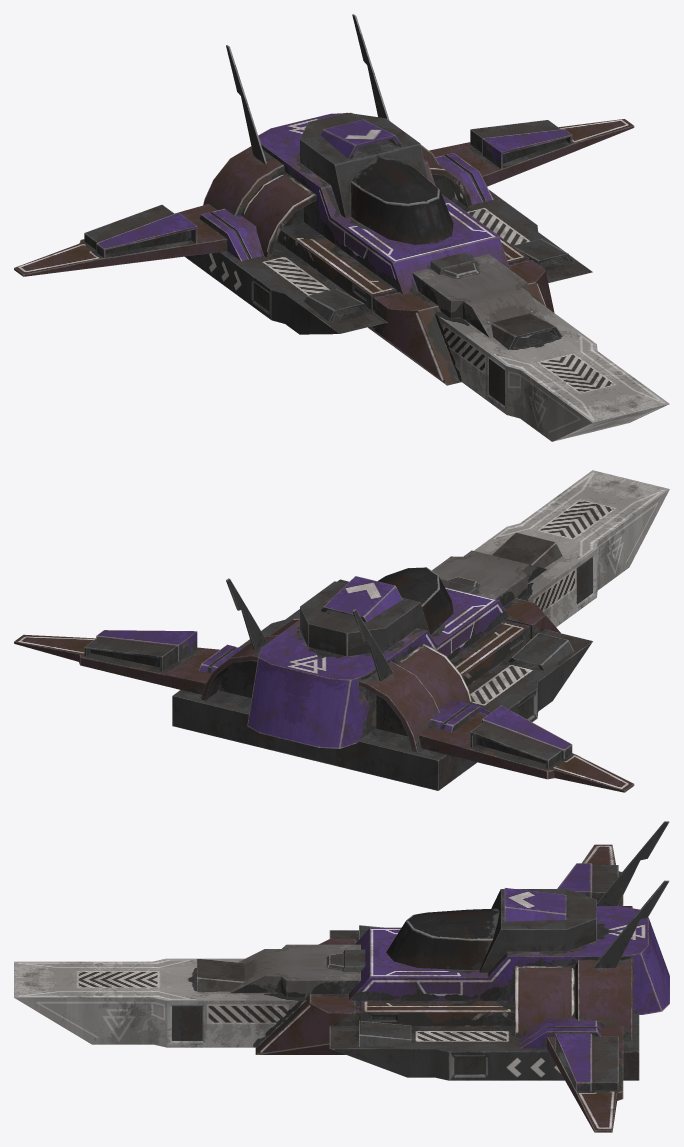
Rendered from challenger_purple.glb.
3 renders of one model, top to bottom at view 1: azimuth 30°, elevation 25°; view 2: azimuth 150°, elevation 25°; view 3: azimuth 270°, elevation 25°, orthographic. The views are drawn at different scales.
Parts seen in each view (by area): view 1: challenger; view 2: challenger; view 3: challenger.
Part boxes in pixels (x1=…): challenger: x1=14, y1=14, x2=669, y2=441; challenger: x1=14, y1=470, x2=669, y2=792; challenger: x1=14, y1=821, x2=669, y2=1132.
Bounding box in the file's own units: 10.5 × 3.02 × 10.18.
1 material, 1 textured.
